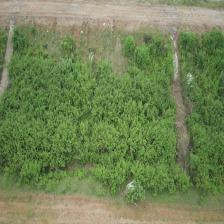vegetation: (0, 27, 191, 202), (189, 33, 224, 192)
